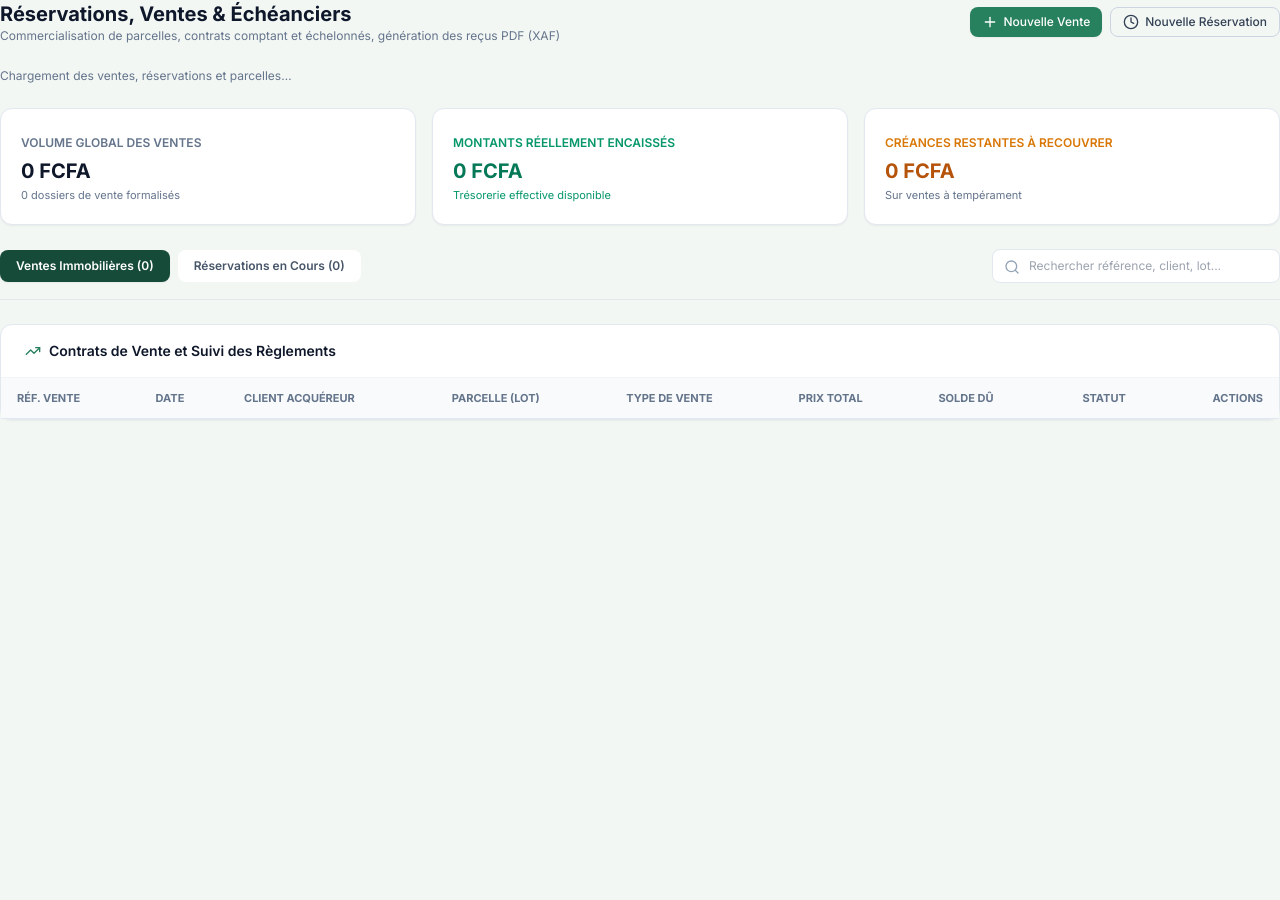
SalesPage en mode connecté — conversion réservation → vente › convertit la réservation en vente en transmettant son identifiant à create_sale
The width and height of the screenshot is (1280, 900).
Later steps or results of the test are not shown.
Step 1. Click the button "Réservations en Cours (0)" → (269, 266), box [178, 250, 361, 282]
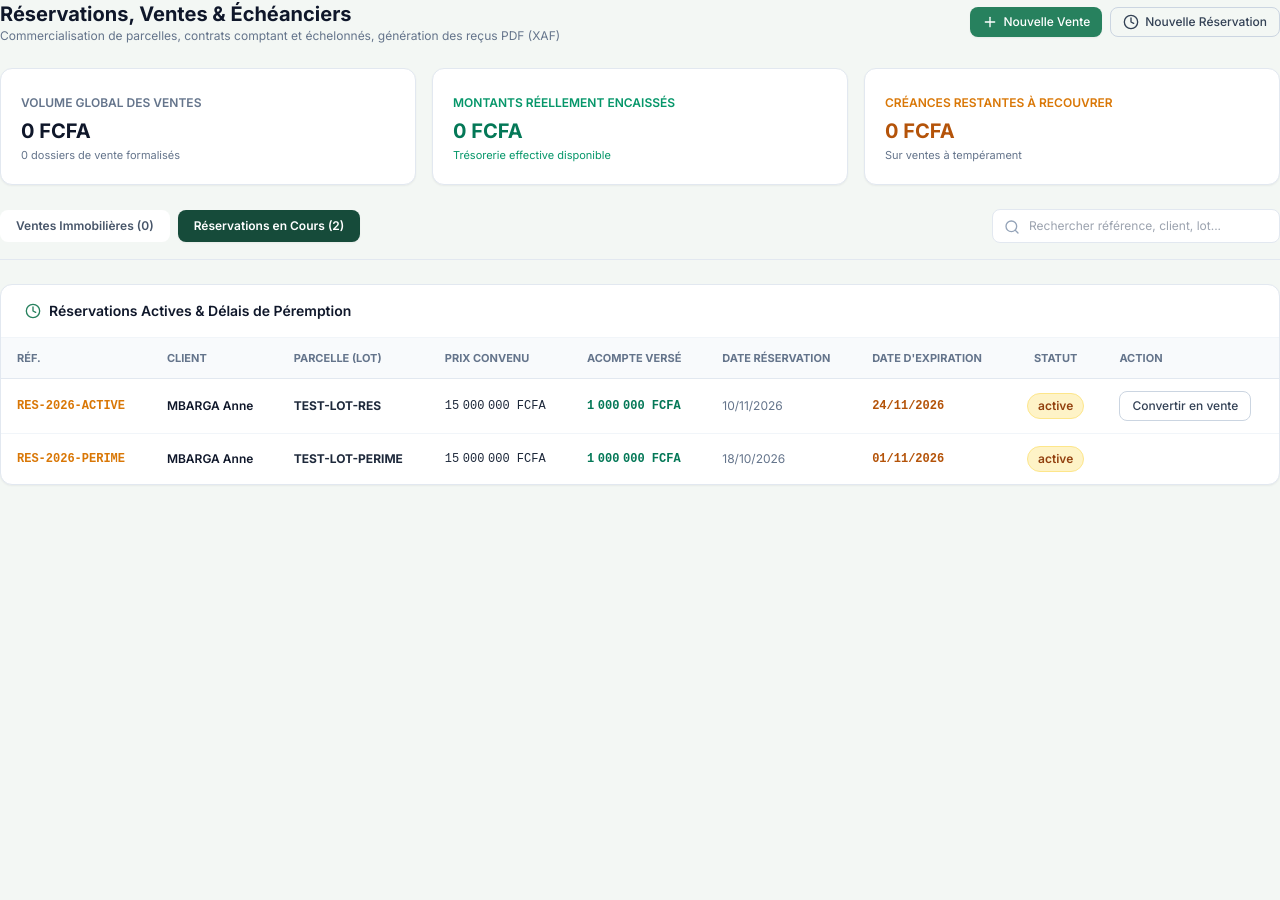
Now the text "RES-2026-ACTIVE" is shown, box [1, 378, 151, 433]
Step 2. Click the button "Convertir en vente" → (1185, 406), box [1119, 390, 1251, 420]
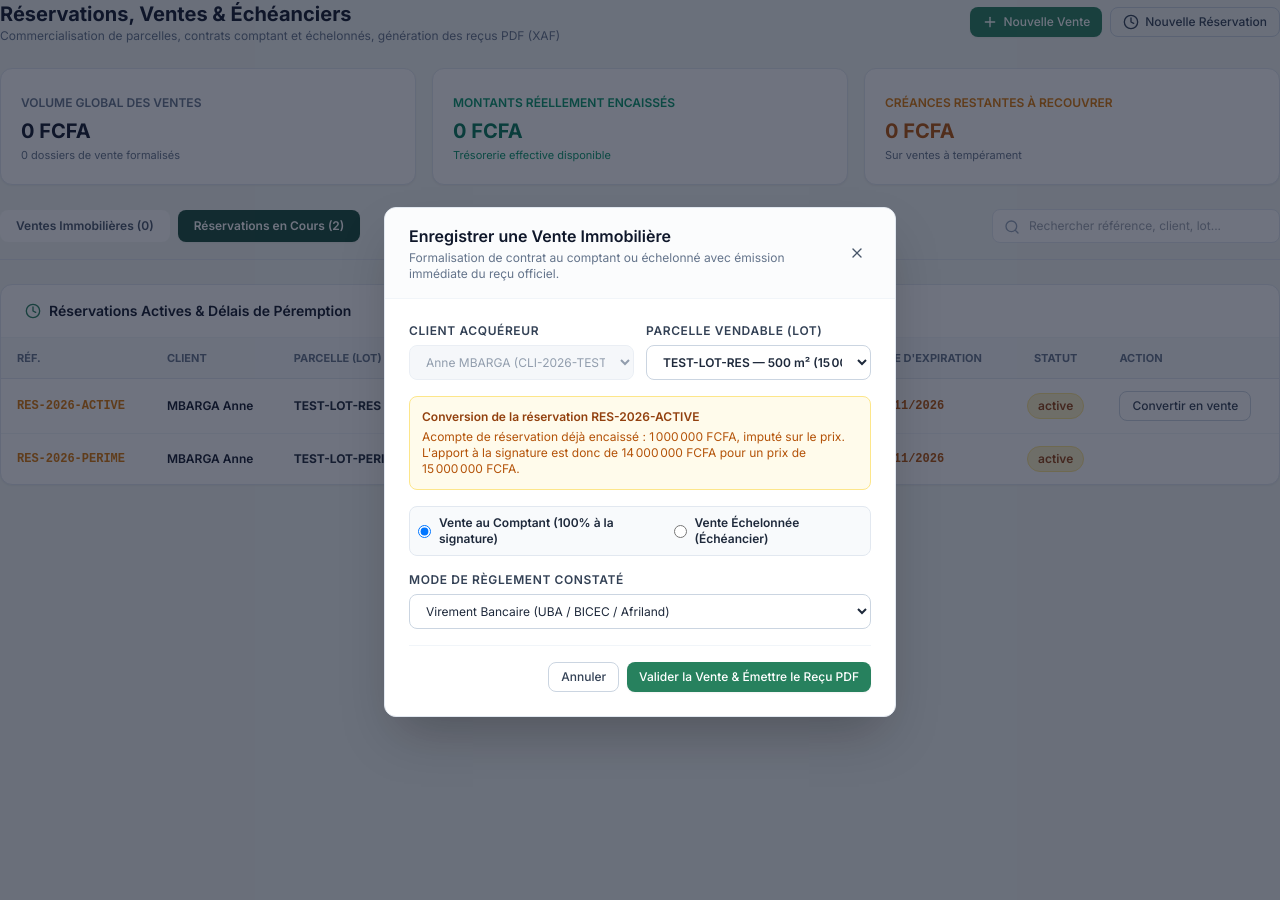
Now the text "Conversion de la réservation RES-2026-ACTIVE" is shown, box [422, 409, 699, 424]
Now the text "imputé sur le prix" is shown, box [736, 429, 845, 444]
Now the dropdown below "Parcelle Vendable (Lot)" shows "TEST-LOT-RES — 500 m² (15 000 000 FCFA) · réservée", box [646, 345, 871, 380]
